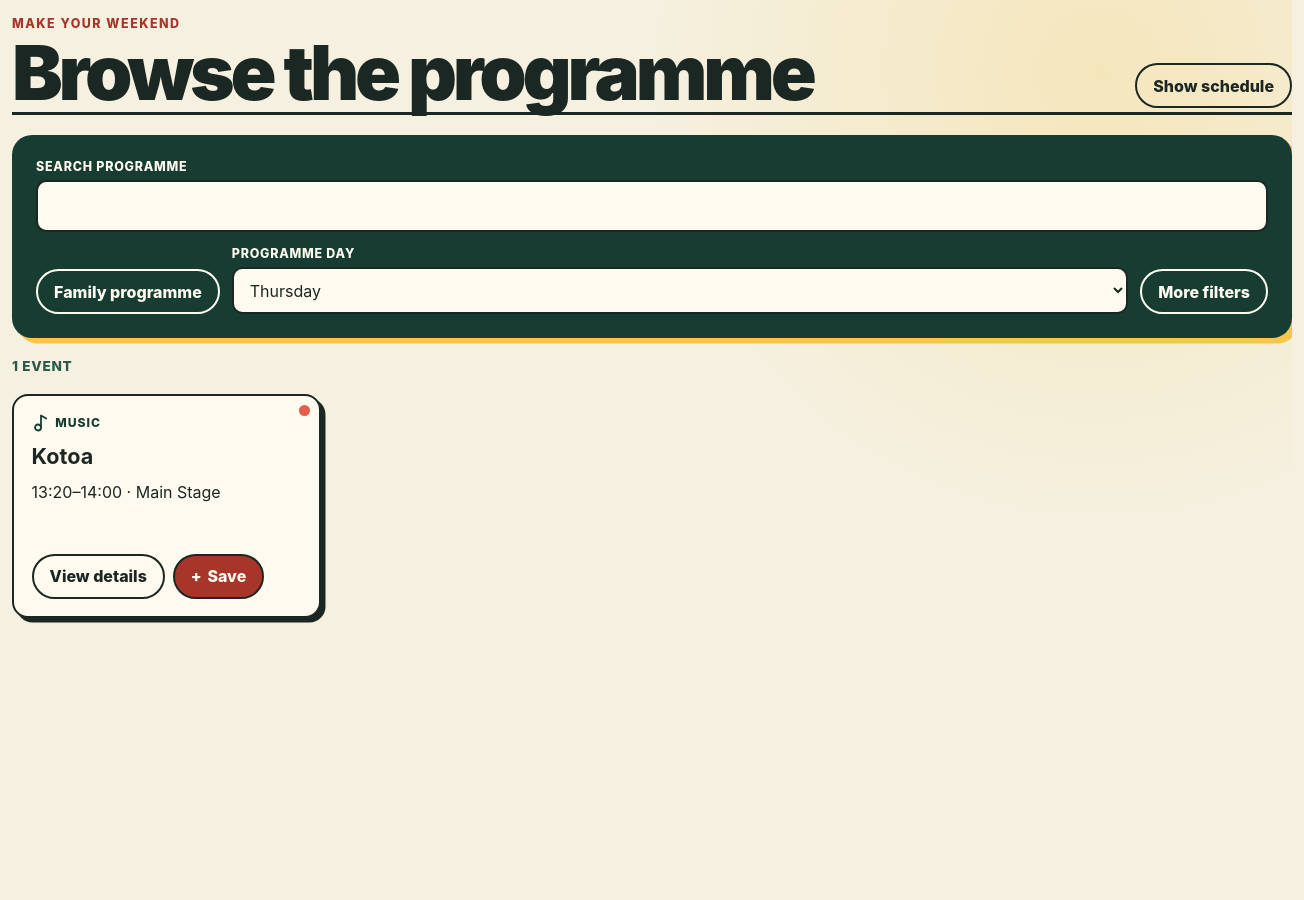
Test: BrowseView › keeps the compact phone schedule at wide landscape sizes
Click the button "Show schedule".
click(1214, 86)  # box left=1135, top=63, right=1292, bottom=108
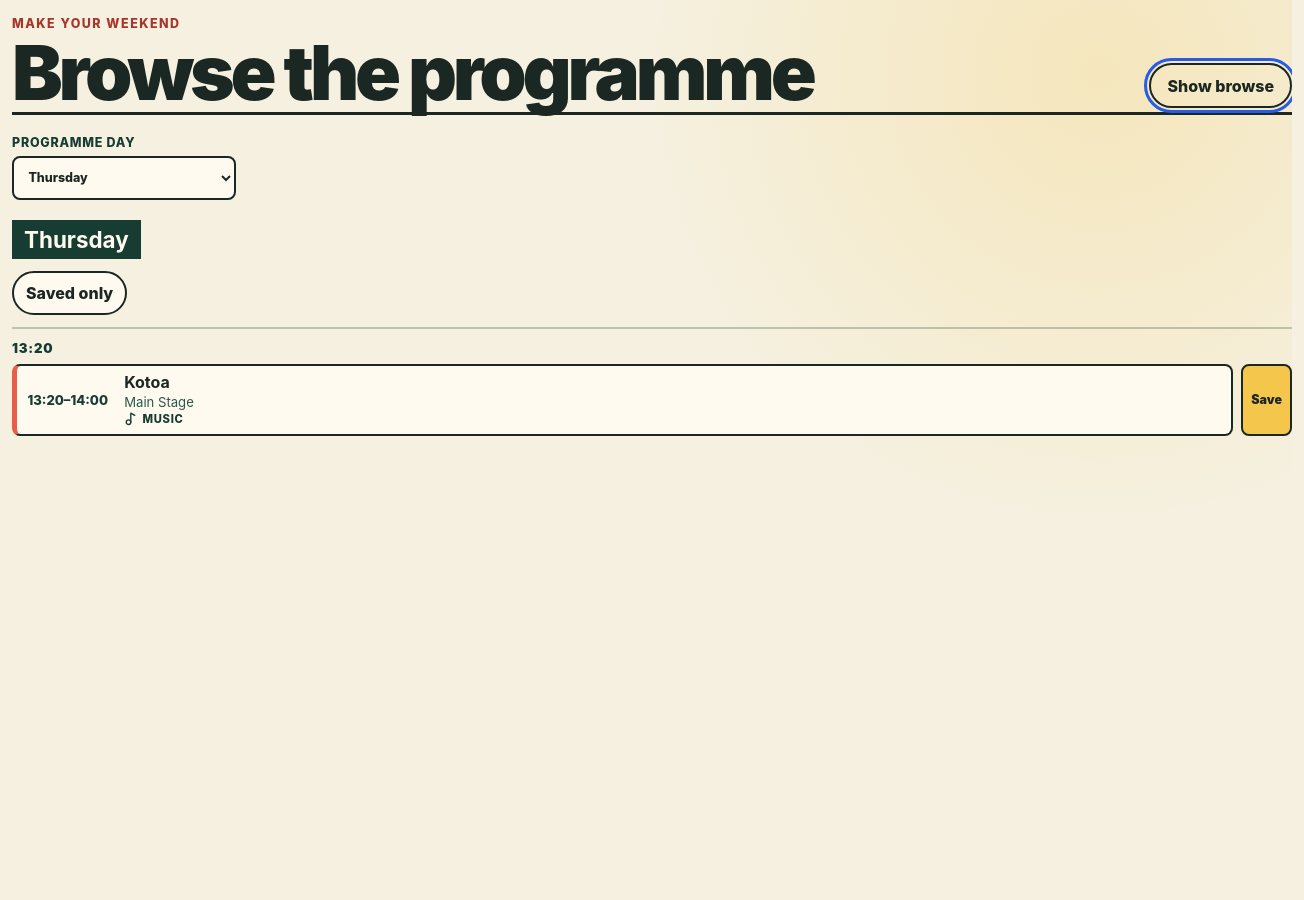
Expected: the button with aria-label "Kotoa day schedule event" is shown, left=12, top=364, right=1233, bottom=436
Expected: the button "Show browse" is shown, left=1150, top=63, right=1292, bottom=108
